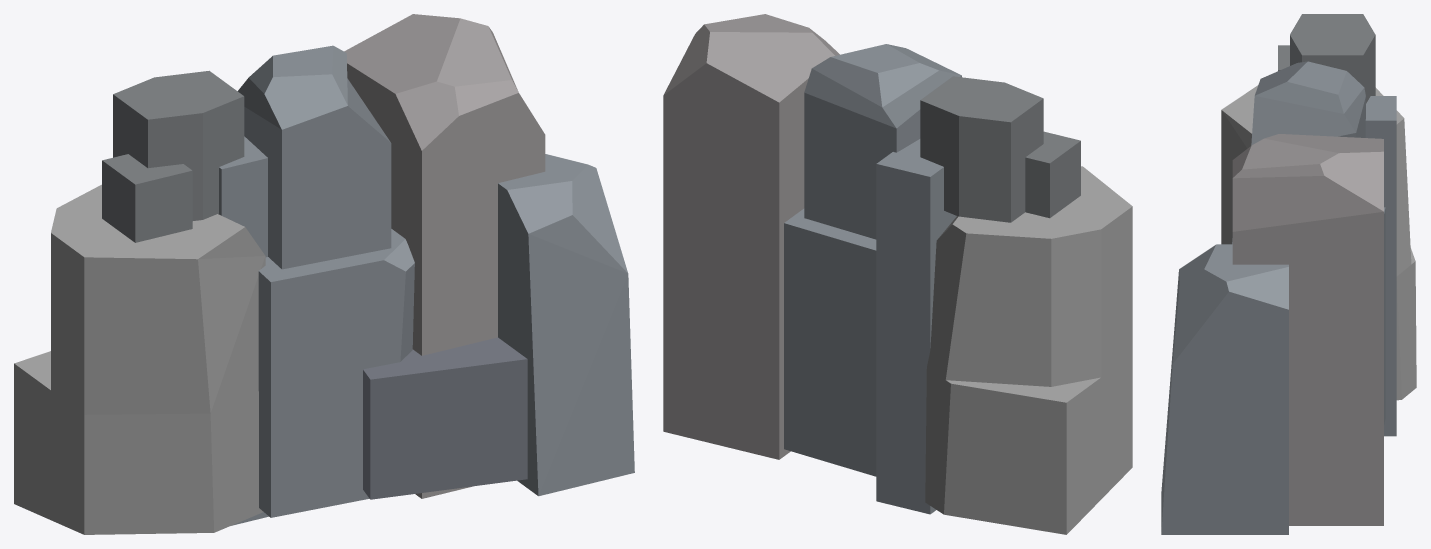
Rendered from Rock_Wall_06.fbx.
The picture shows the model from 3 angles, left to right: view 1: azimuth 30°, elevation 25°; view 2: azimuth 150°, elevation 25°; view 3: azimuth 270°, elevation 25°; orthographic projection. The views are drawn at different scales.
Parts seen in each view (by area): view 1: Rock_Wall_06; view 2: Rock_Wall_06; view 3: Rock_Wall_06.
Part boxes in pixels (x1,y1,x2,y2): Rock_Wall_06: (14,14,634,534); Rock_Wall_06: (663,14,1132,534); Rock_Wall_06: (1161,14,1416,534).
Bounding box in the file's own units: 6.78 × 5.71 × 3.51.
